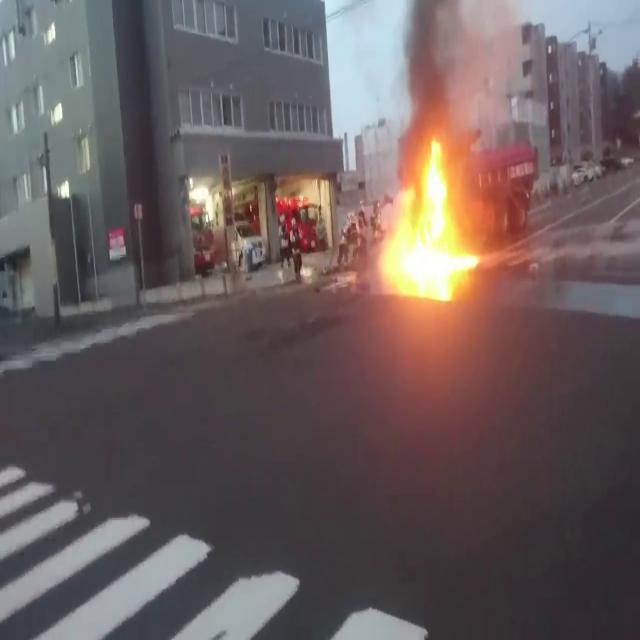Fire: (386, 150, 482, 292)
